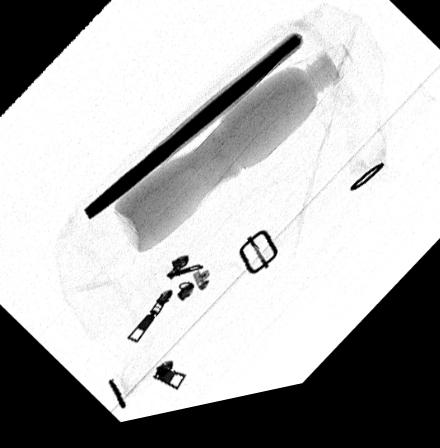Pliers: (82, 47, 303, 223)
